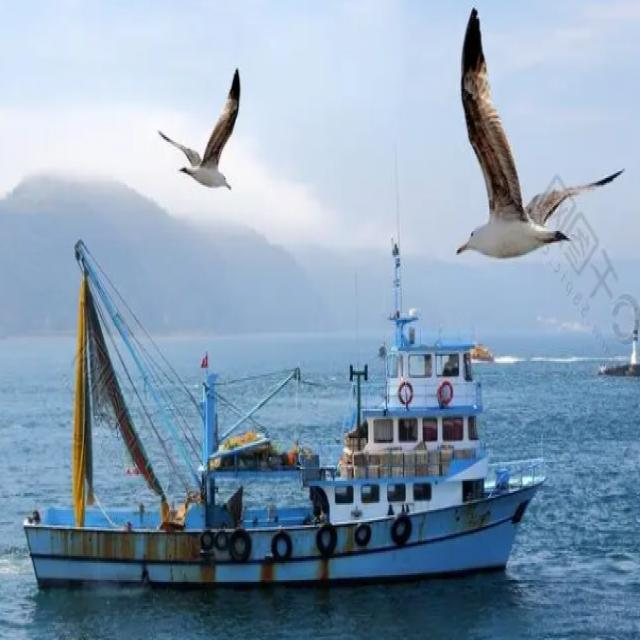fishing boat: (19, 230, 539, 599)
